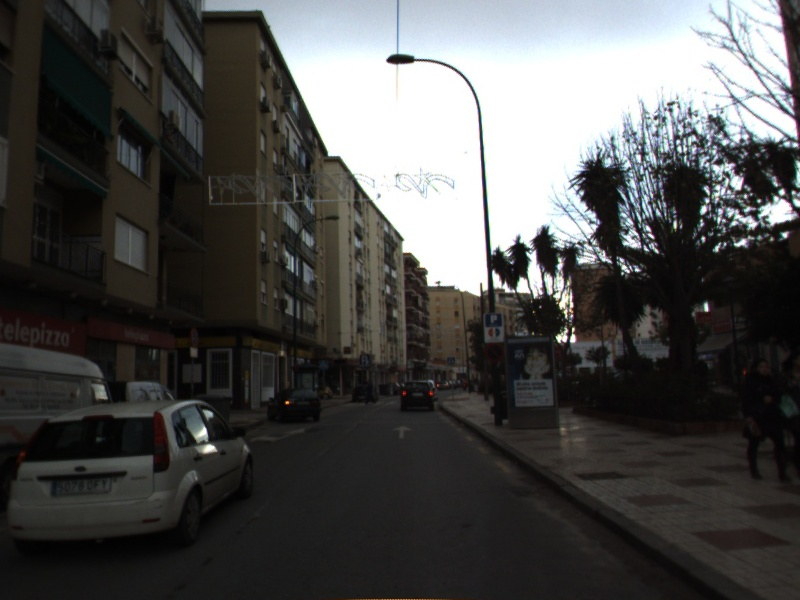STRAIGHT: (390, 423, 414, 440)
STRAIGHT_LEFT: (248, 426, 307, 445)
